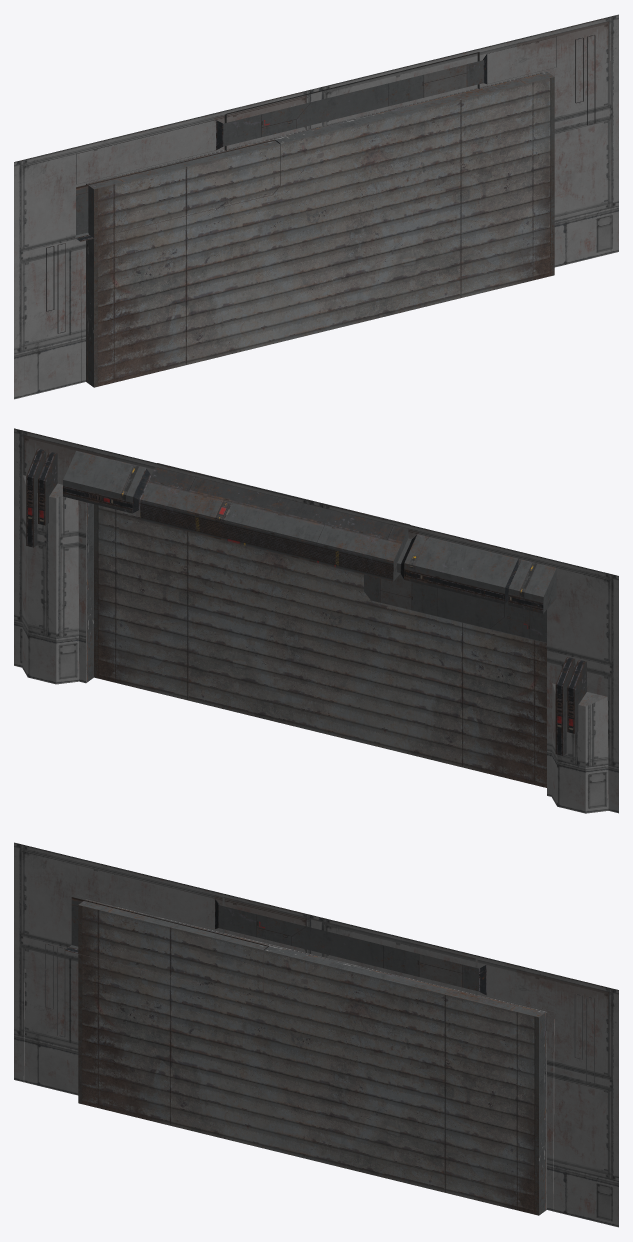
Rendered from ARC0910219.fbx.
3 views of the same model, one above another, from view 1: azimuth 30°, elevation 25°; view 2: azimuth 150°, elevation 25°; view 3: azimuth 330°, elevation 25° (orthographic).
Parts seen in each view (by area): view 1: smARC0910219; view 2: smARC0910219; view 3: smARC0910219.
Part boxes in pixels (bbox=[...]): smARC0910219: bbox=[14, 14, 618, 399]; smARC0910219: bbox=[14, 428, 618, 813]; smARC0910219: bbox=[14, 842, 618, 1227].
Bounding box in the file's own units: 800 × 300 × 53.27.
1 material, 1 textured.
